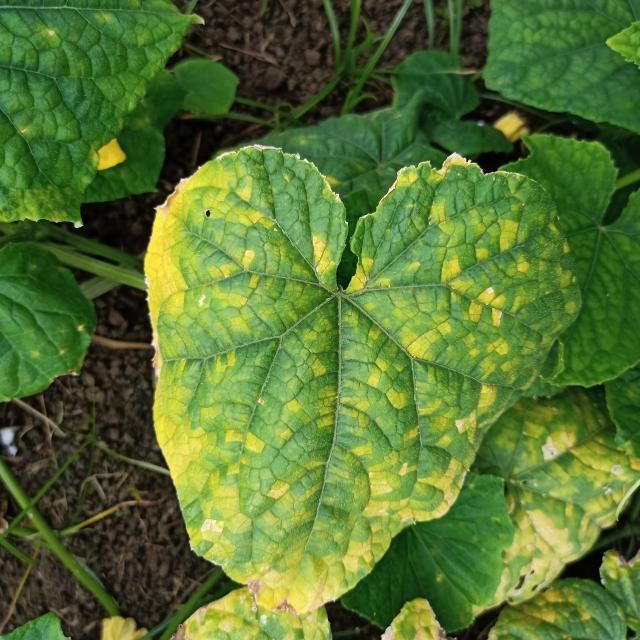disease_cucumber: (149, 152, 580, 605)
